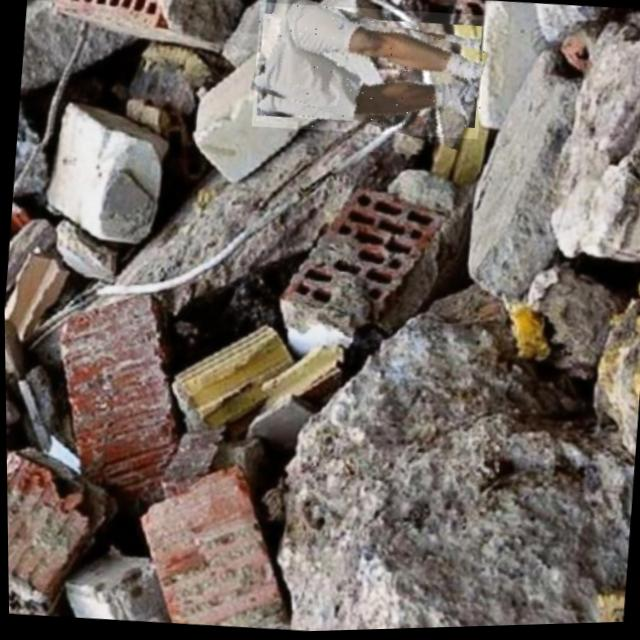Person in Rubble: (249, 0, 488, 146)
